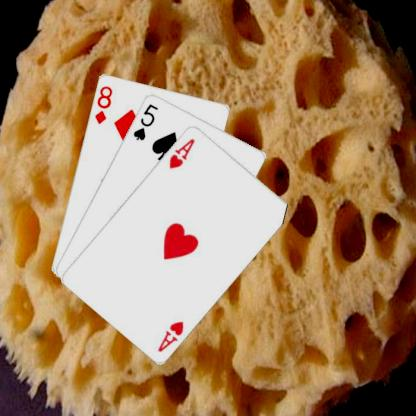5S: (130, 101, 159, 142)
8D: (92, 82, 114, 126)
AH: (154, 318, 185, 353), (166, 135, 196, 170)
